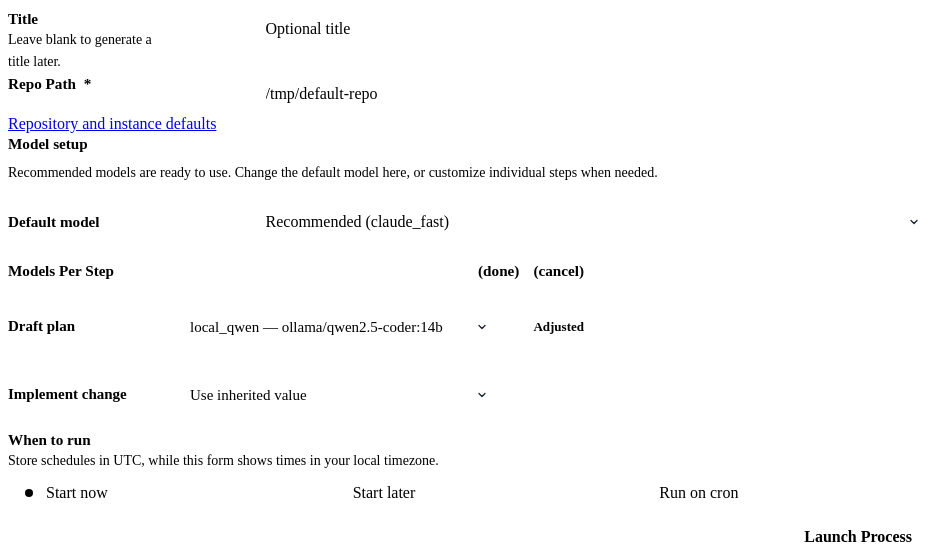
Scenario: GenericLauncher › cancelling inline per-step editing restores the previous turn overrides
Select "claude_fast — anthropic/claude-sonnet-4-20250514" in the dropdown with id "test-launcher-form-draft_plan-model-profile" at (336, 327), box x1=176 y1=304 x2=496 y2=350
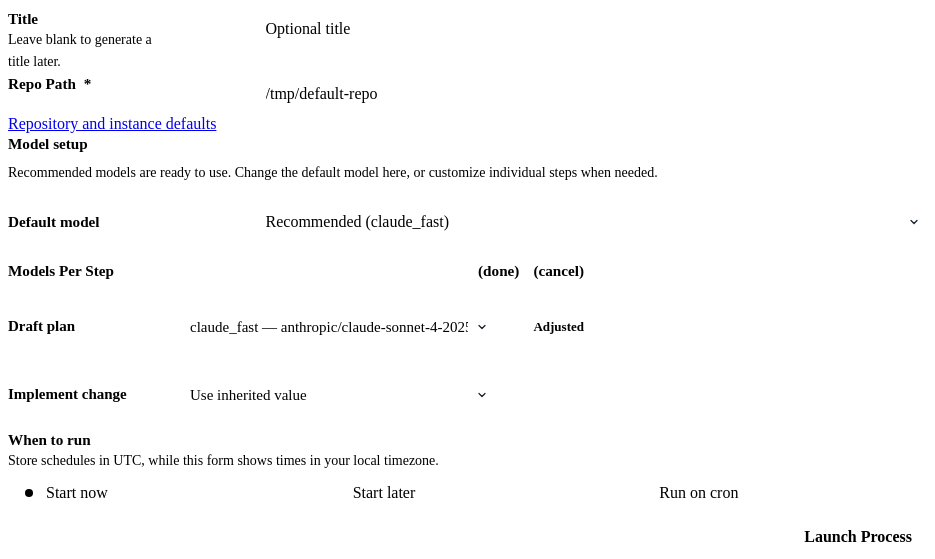
Click the button "(cancel)".
click(559, 270)  # box x1=533 y1=260 x2=584 y2=281
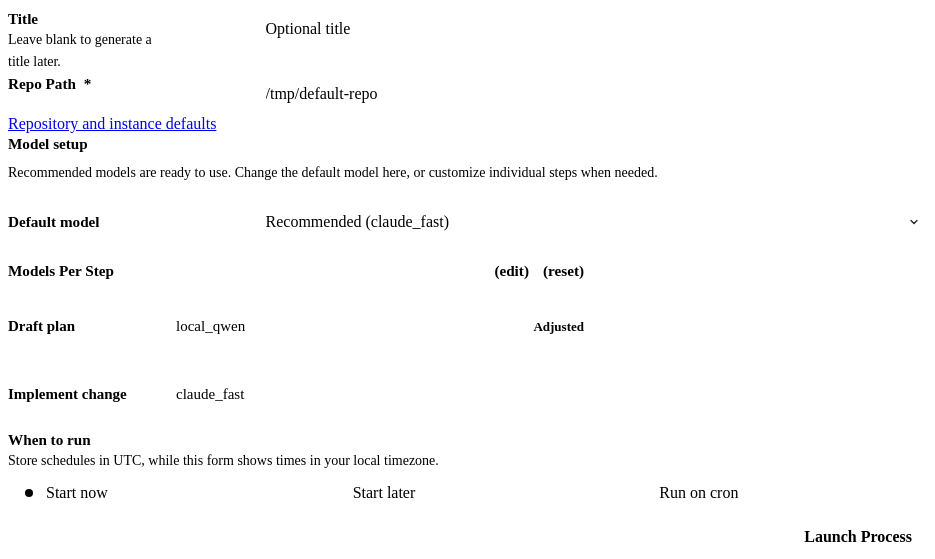
Expected: the dropdown with id "test-launcher-form-draft_plan-model-profile" is gone
